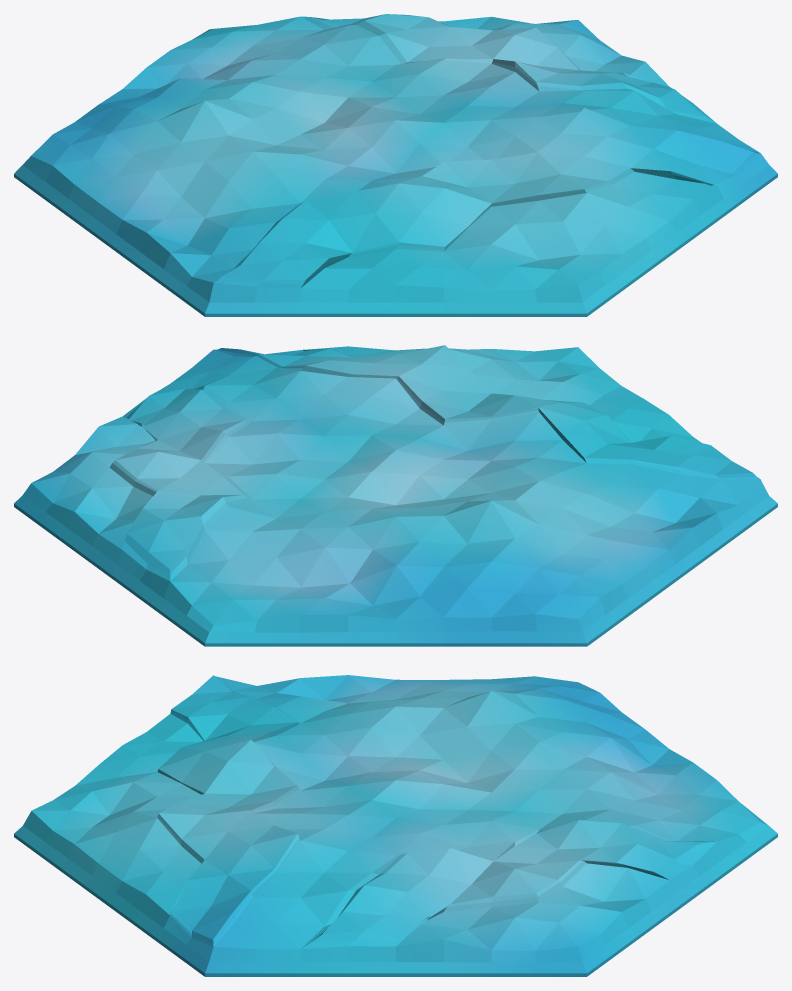
The model's file is ocean.glb.
The picture shows the model from 3 angles, top to bottom: view 1: azimuth 30°, elevation 25°; view 2: azimuth 150°, elevation 25°; view 3: azimuth 270°, elevation 25°; orthographic projection.
Visible parts, largest first — view 1: ocean; view 2: ocean; view 3: ocean.
Part boxes in pixels (left/top/right/bottom): ocean: left=14, top=14, right=777, bottom=316; ocean: left=14, top=345, right=777, bottom=646; ocean: left=14, top=675, right=777, bottom=976.
Bounding box in the file's own units: 1.73 × 0.2202 × 2.
